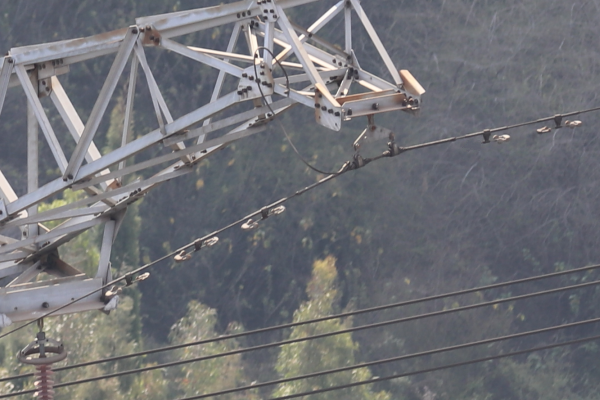damper: (102, 269, 151, 299), (170, 235, 220, 264), (239, 202, 287, 231), (534, 113, 583, 135)
damper_defect: (476, 128, 512, 146)
